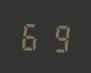nine: (45, 20, 70, 54)
six: (19, 18, 44, 52)
